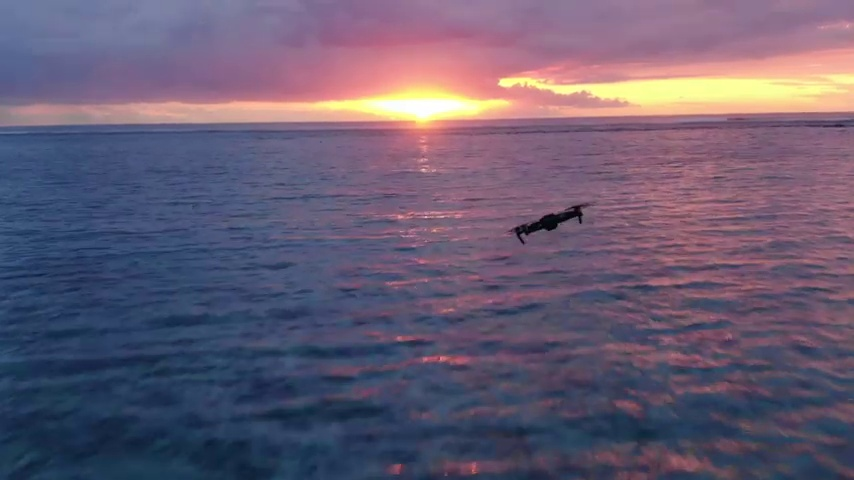drone: (510, 202, 588, 244)
